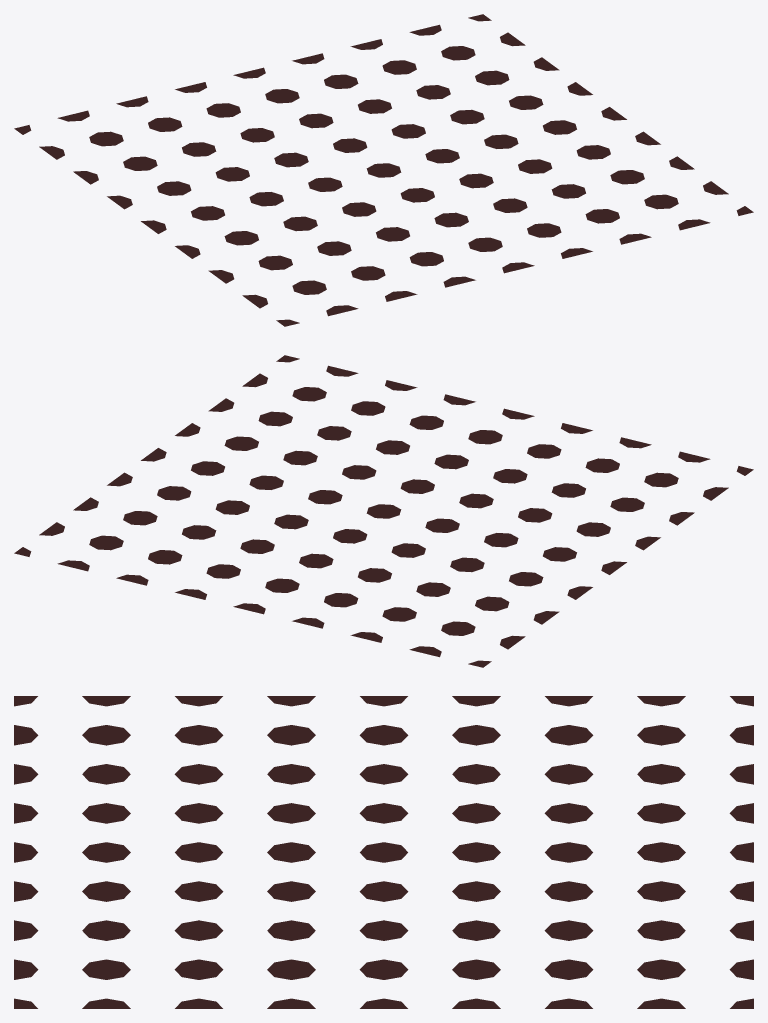
Rendered from BG_ground_10M_Pattern01.fbx.
The picture shows the model from 3 angles, top to bottom: view 1: azimuth 30°, elevation 25°; view 2: azimuth 150°, elevation 25°; view 3: azimuth 270°, elevation 25°; orthographic projection. The views are drawn at different scales.
Parts seen in each view (by area): view 1: BG_ground_10M_Pattern01; view 2: BG_ground_10M_Pattern01; view 3: BG_ground_10M_Pattern01.
Part boxes in pixels (x1,y1,x2,y2): BG_ground_10M_Pattern01: [14, 14, 753, 326]; BG_ground_10M_Pattern01: [14, 355, 753, 667]; BG_ground_10M_Pattern01: [14, 696, 753, 1008].
Bounding box in the file's own units: 100 × 6.12e-15 × 100.
1 material, 1 textured.
